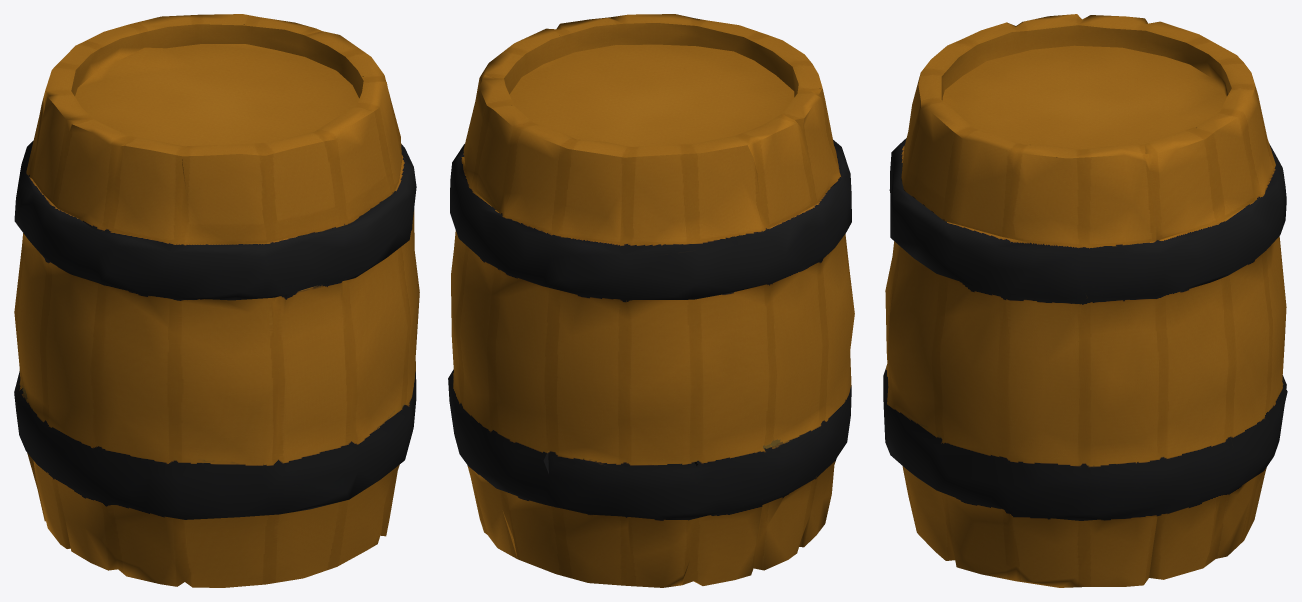
File: barril.glb
The picture shows the model from 3 angles, left to right: view 1: azimuth 30°, elevation 25°; view 2: azimuth 150°, elevation 25°; view 3: azimuth 270°, elevation 25°; orthographic projection.
Parts seen in each view (by area): view 1: world; view 2: world; view 3: world.
Part boxes in pixels (x1,y1,x2,y2): world: (14,14,419,587); world: (448,14,854,587); world: (883,14,1287,587).
Bounding box in the file's own units: 0.8572 × 1 × 0.8518.
1 material, 1 textured.
